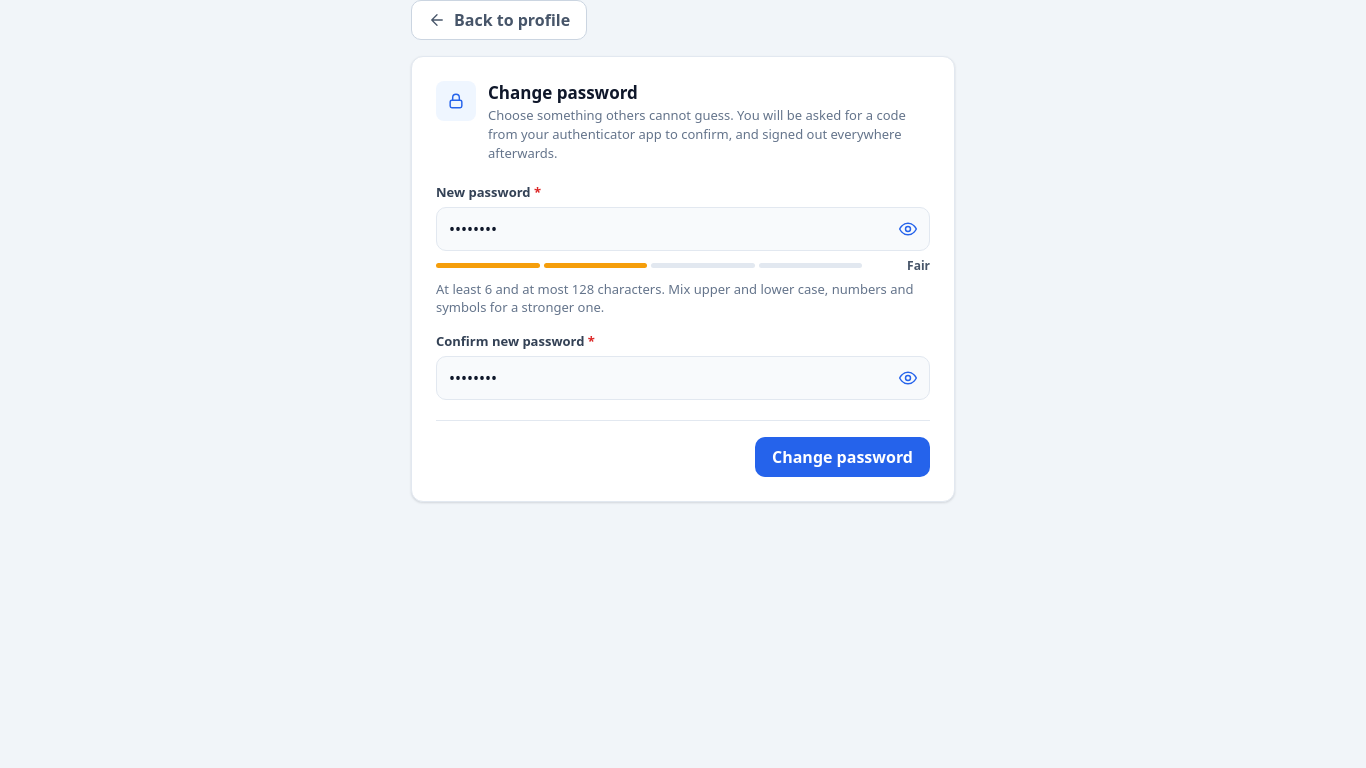
Test case: ChangePasswordComponent › opens a popup asking only for the code, and sends nothing until it is confirmed
This screenshot has width=1366, height=768.
Click the button "Change password" at (842, 456), box [755,436,930,476]
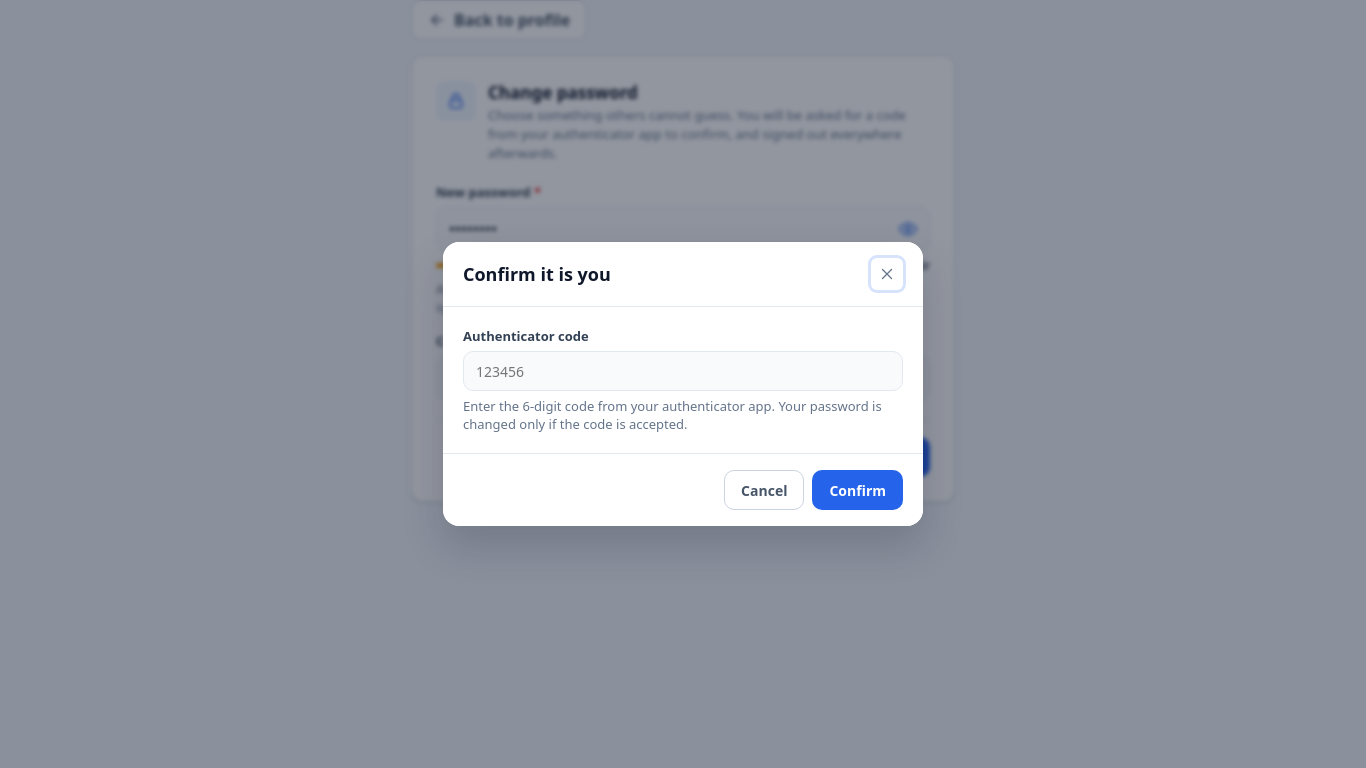
Result: the field labelled "Authenticator code" is shown at [463,351,903,391]
